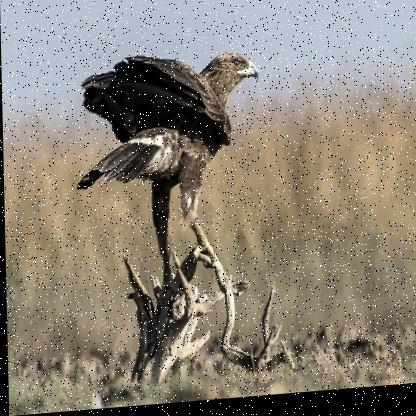Burung: (70, 49, 264, 277)
